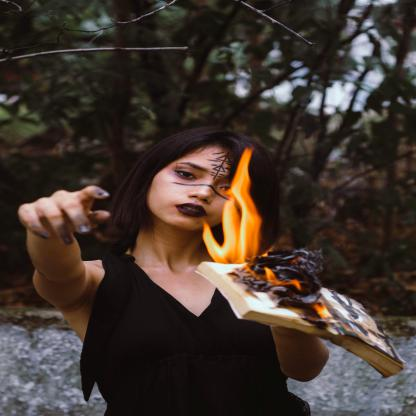Eye: (173, 169, 198, 180), (217, 184, 231, 197)
Mouth: (174, 202, 208, 217)
Nose: (188, 180, 217, 204)
